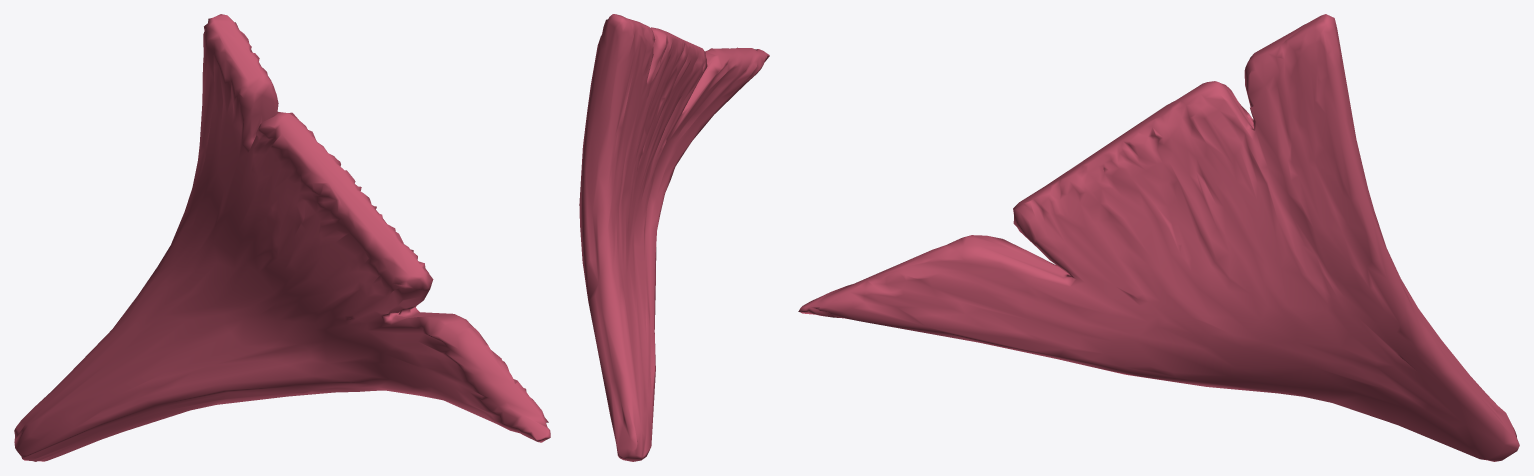
3 renders of one model, left to right at view 1: azimuth 30°, elevation 25°; view 2: azimuth 150°, elevation 25°; view 3: azimuth 270°, elevation 25°, orthographic. The views are drawn at different scales.
Visible parts, largest first — view 1: 左侧甲会厌肌; view 2: 左侧甲会厌肌; view 3: 左侧甲会厌肌.
Part boxes in pixels (x1=…): 左侧甲会厌肌: x1=14, y1=14, x2=550, y2=461; 左侧甲会厌肌: x1=579, y1=14, x2=769, y2=461; 左侧甲会厌肌: x1=798, y1=14, x2=1519, y2=461.
Bounding box in the file's own units: 0.0125 × 0.0277 × 0.0367.
